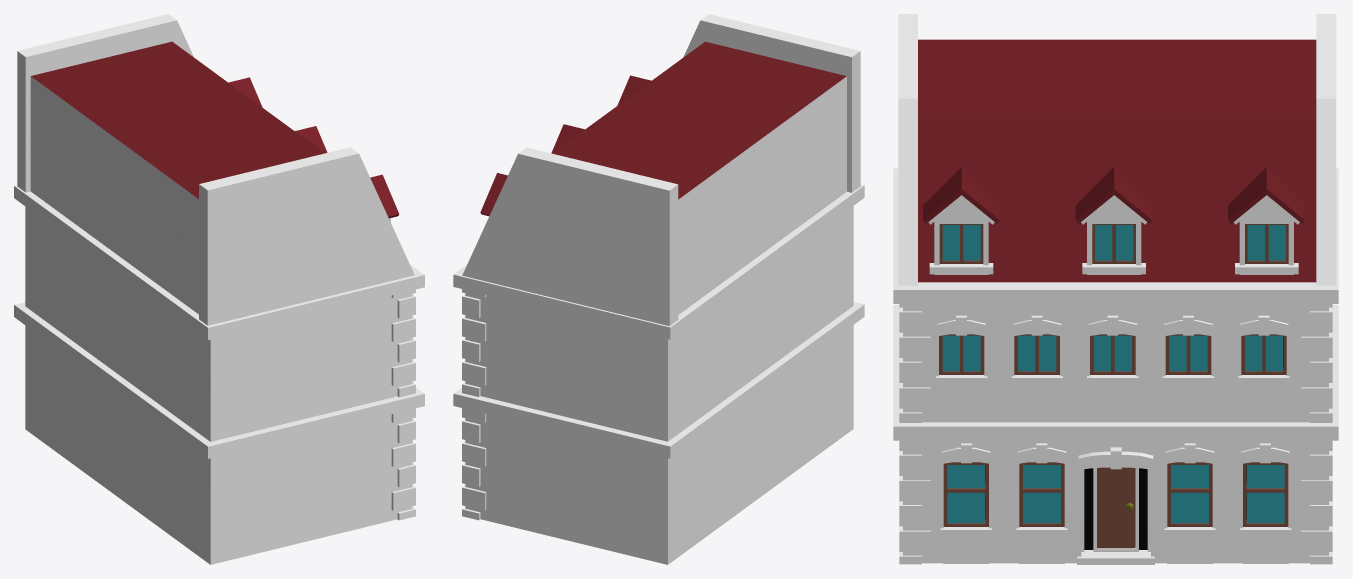
Rendered from house05.fbx.
3 renders of one model, left to right at view 1: azimuth 30°, elevation 25°; view 2: azimuth 150°, elevation 25°; view 3: azimuth 270°, elevation 25°, orthographic. The views are drawn at different scales.
Parts seen in each view (by area): view 1: _house05; view 2: _house05; view 3: _house05.
Boxes of the visible parts, bbox=[...] form: _house05: bbox=[14, 14, 424, 564]; _house05: bbox=[453, 14, 864, 564]; _house05: bbox=[893, 14, 1338, 564].
Bounding box in the file's own units: 73.03 × 121 × 113.
